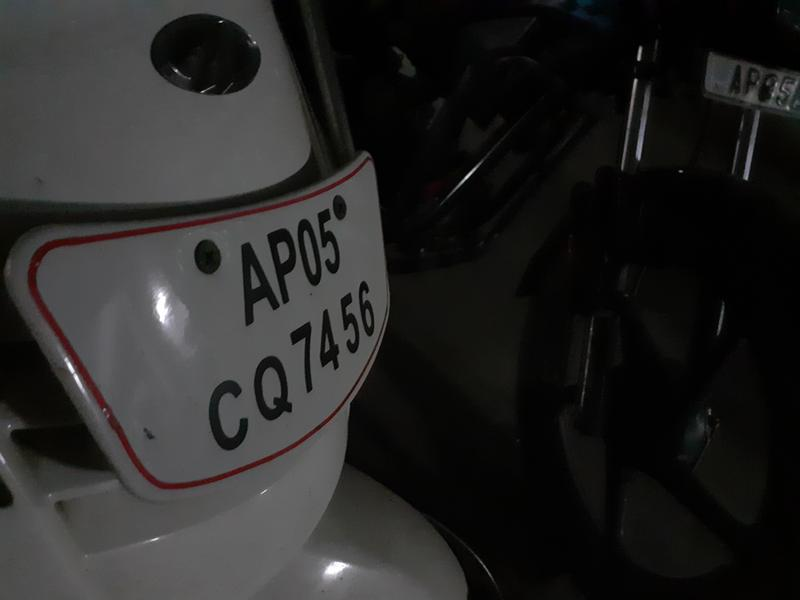numberplate: (27, 198, 442, 490)
